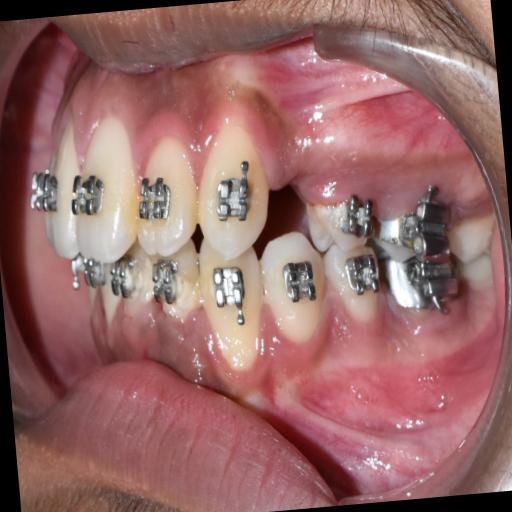correct_brace: (258, 224, 333, 346), (209, 154, 259, 226), (134, 170, 181, 226), (276, 257, 320, 312)
incorrect_brace: (126, 127, 201, 260)
